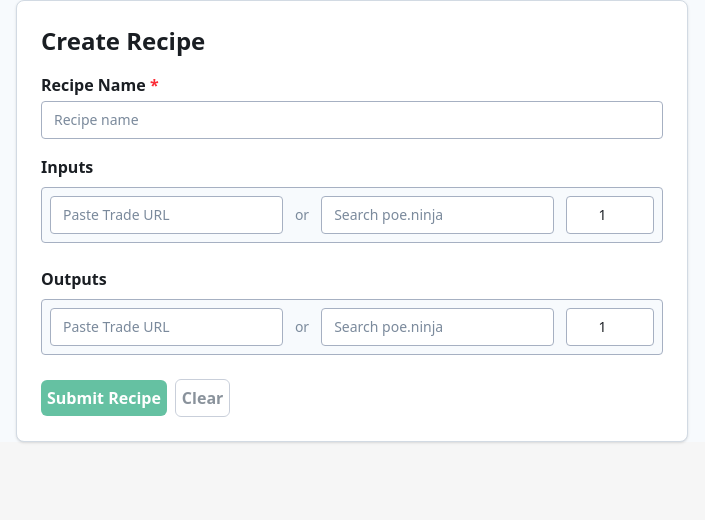
Scenario: CreateRecipePage › autofills the name field with the resolved output name when only output is filled
# Only fill the output draft (second trade-url-input)
Type "https://www.pathofexile.com/trade/search/Standard/abcdefghij" into the field with test id "trade-url-input" below "Outputs" at (166, 327), box 50,308 -> 283,346
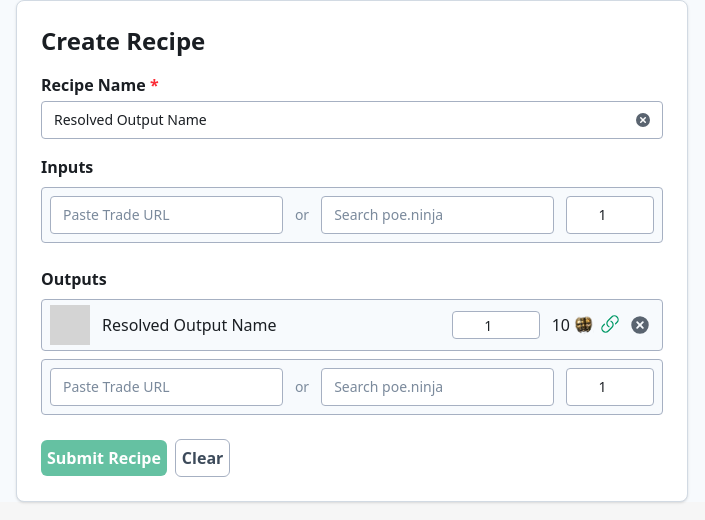
Check: the text "Resolved Output Name" is shown, box 102,314 -> 276,336
Check: the field showing "Resolved Output Name" holds "Resolved Output Name", box 41,101 -> 663,139
